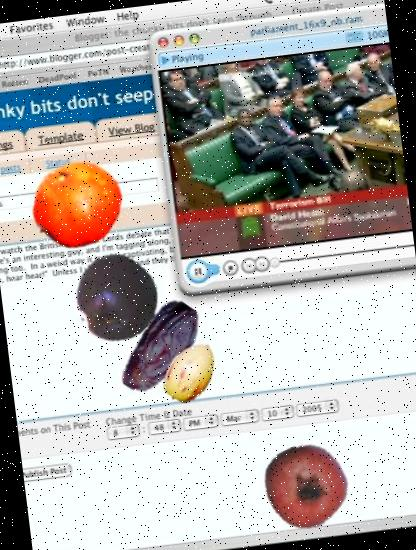Clementine: (24, 152, 130, 258)
Dates: (105, 292, 218, 406)
Passion: (67, 250, 164, 346)
Pepino: (154, 336, 228, 410)
Pomegranate: (260, 440, 354, 534)
